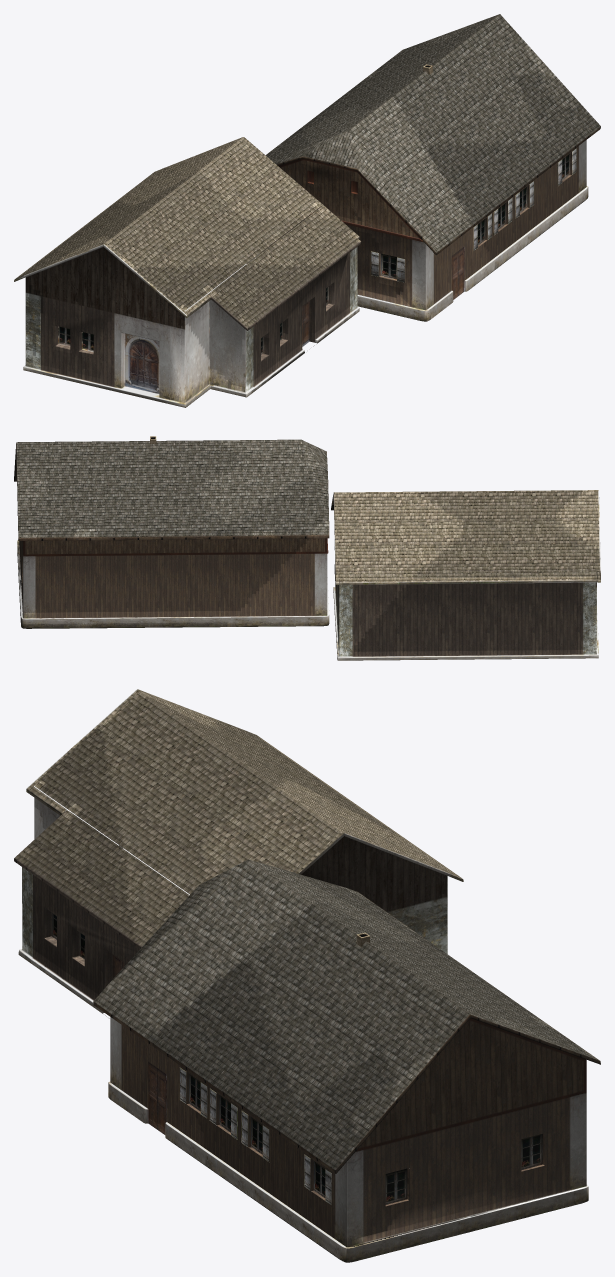
3 views of the same model, one above another, from view 1: azimuth 30°, elevation 25°; view 2: azimuth 150°, elevation 25°; view 3: azimuth 270°, elevation 25° (orthographic). The views are drawn at different scales.
Parts seen in each view (by area): view 1: DUM1, DUM2, okenice, okna; view 2: DUM2, DUM1; view 3: DUM2, DUM1, okna, okenice.
Boxes of the visible parts, bbox=[...] form: DUM1: bbox=[14, 137, 361, 407]; DUM2: bbox=[246, 14, 600, 321]; okenice: bbox=[371, 148, 576, 282]; okna: bbox=[478, 152, 571, 247]; DUM2: bbox=[14, 439, 329, 628]; DUM1: bbox=[331, 490, 600, 660]; DUM2: bbox=[93, 859, 600, 1262]; DUM1: bbox=[14, 689, 463, 1018]; okna: bbox=[186, 1072, 544, 1206]; okenice: bbox=[179, 1067, 331, 1205].
Size of the model in its own units: 27.34 by 6.97 by 16.5.
5 materials, 5 textured.
